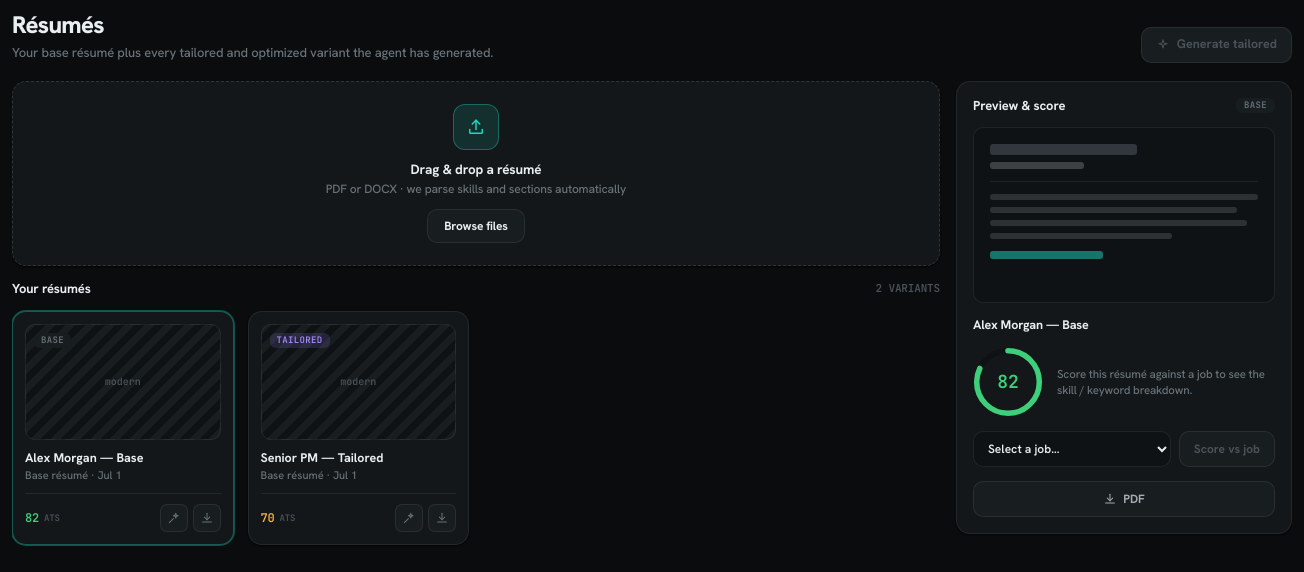
ResumesPage › clears the stale score breakdown when a different résumé is selected
Check: the text "Senior PM — Tailored" is shown, box [260, 449, 383, 466]
Select "Senior PM · Northwind" in the dropdown named "target job". click: (1072, 449)
box: [973, 431, 1171, 467]
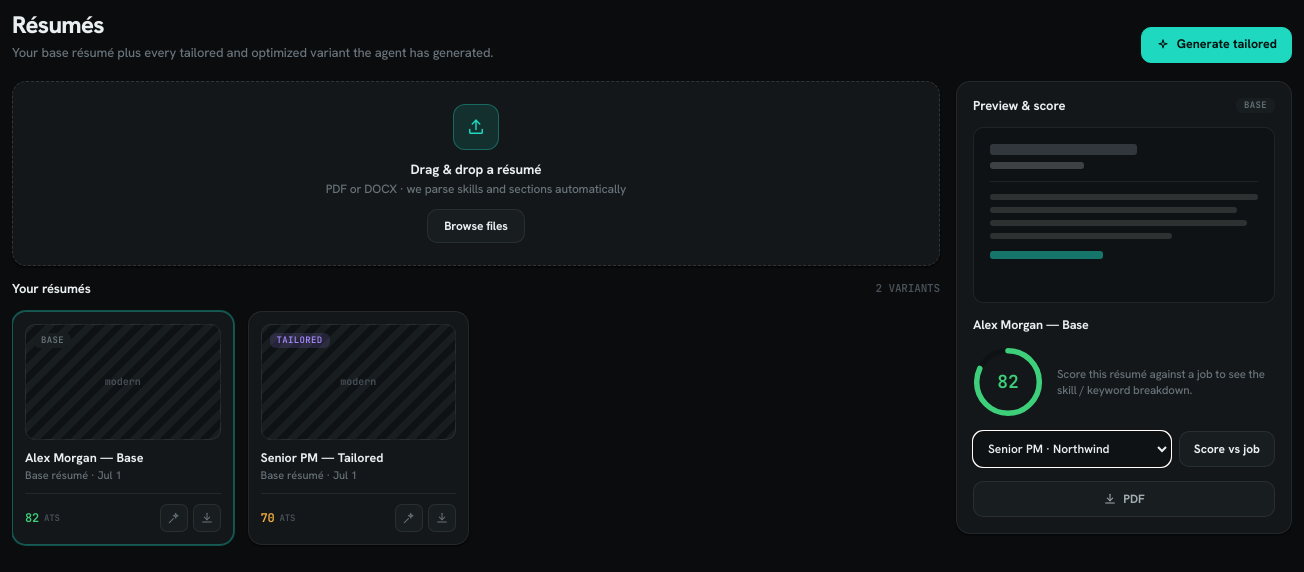
Click the button "Score vs job". click: (1227, 449)
box: [1179, 431, 1275, 467]
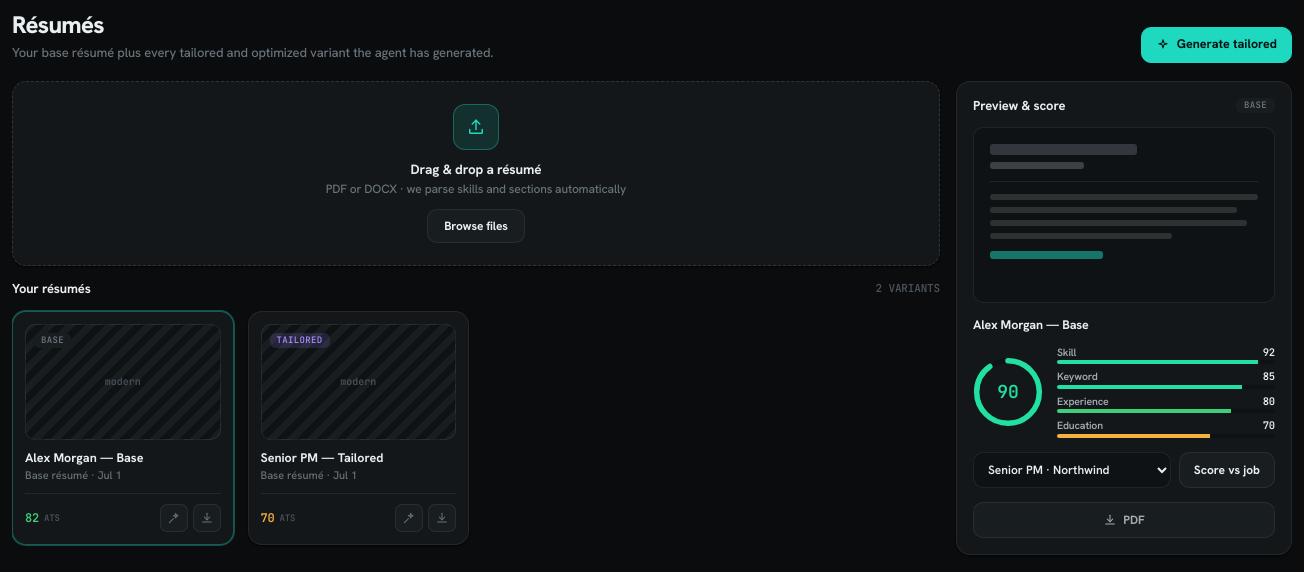
Check: the text "90" is shown, box [997, 380, 1019, 403]
Click the button with aria-label "select résumé senior pm". click: (358, 403)
box: [260, 324, 456, 482]
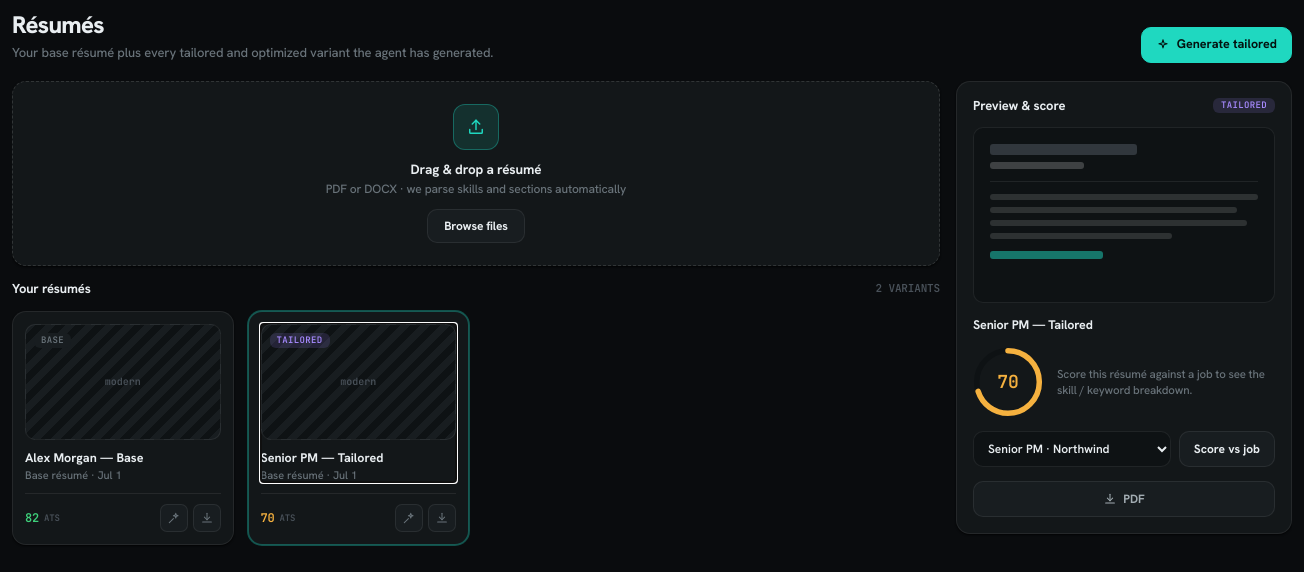
Check: the text "90" is gone
Check: the text "Score this résumé against a job" is shown, box [1057, 366, 1265, 397]
